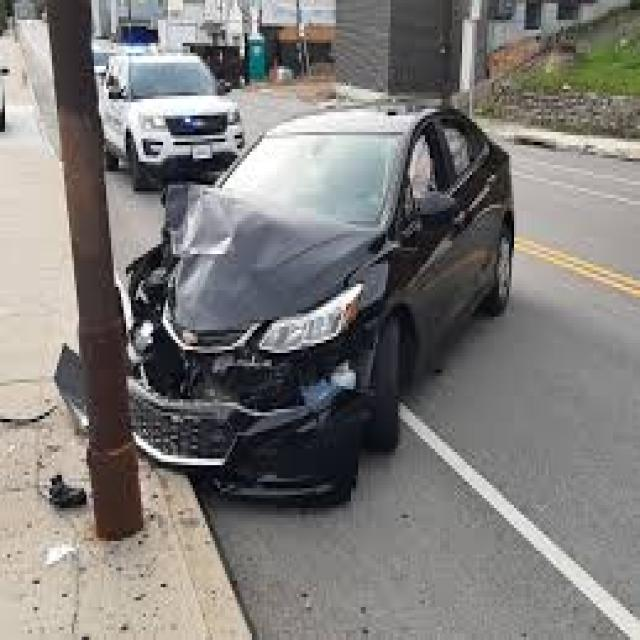Accident: (52, 111, 515, 508)
